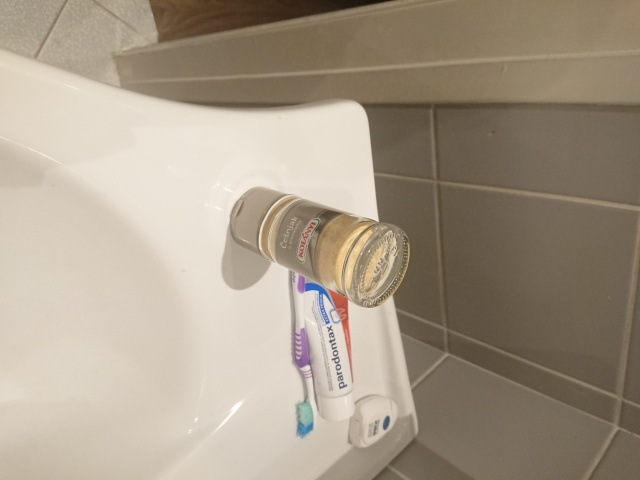Kotanyi Garlic Granules 70g: (227, 183, 412, 310)
